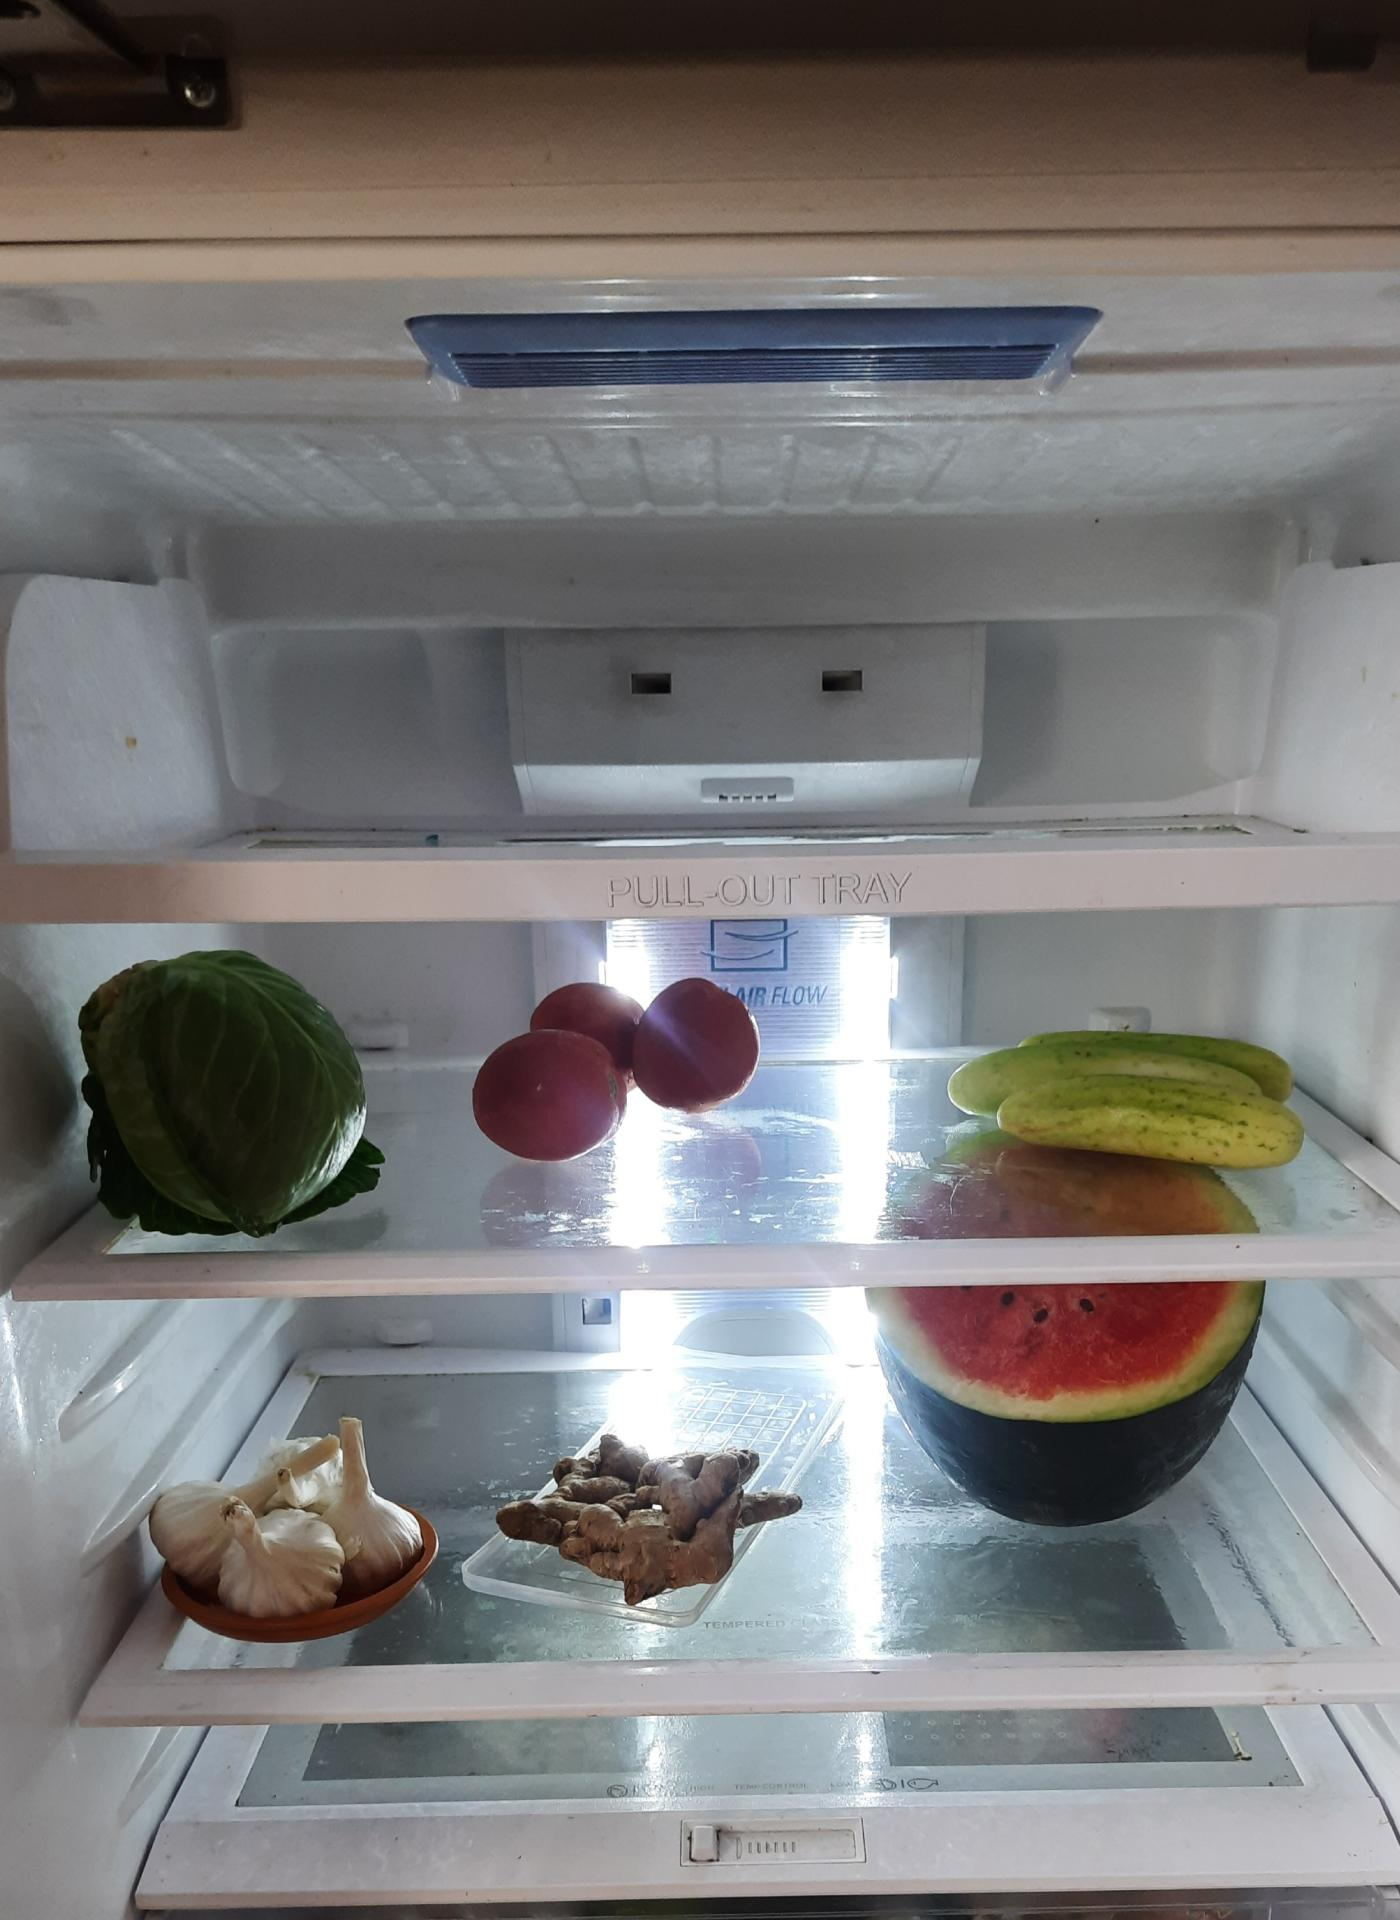cabbage: (58, 954, 398, 1231)
cucumber: (930, 1029, 1337, 1181)
garlic: (139, 1439, 440, 1625)
ginger: (492, 1436, 793, 1614)
tomato: (471, 960, 759, 1160)
watermelon: (866, 1178, 1282, 1537)
